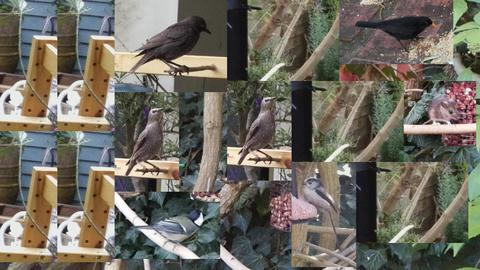blackbird: (354, 15, 438, 53)
great tit: (130, 207, 205, 251)
long tailed tit: (302, 177, 341, 252)
mouse: (406, 96, 461, 136)
starling: (130, 15, 212, 77), (125, 107, 164, 177), (238, 96, 277, 166)
